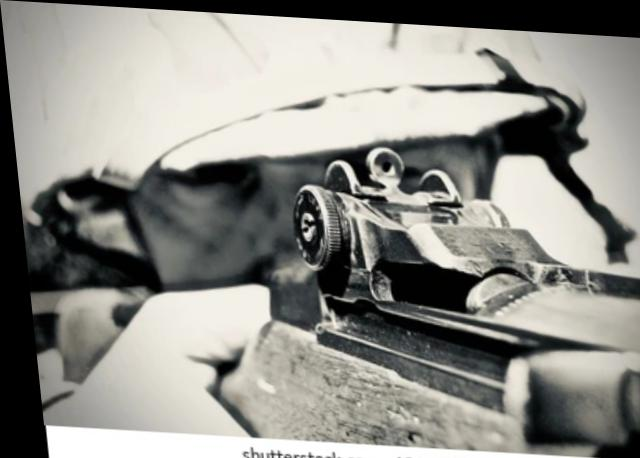other: (36, 69, 576, 440)
